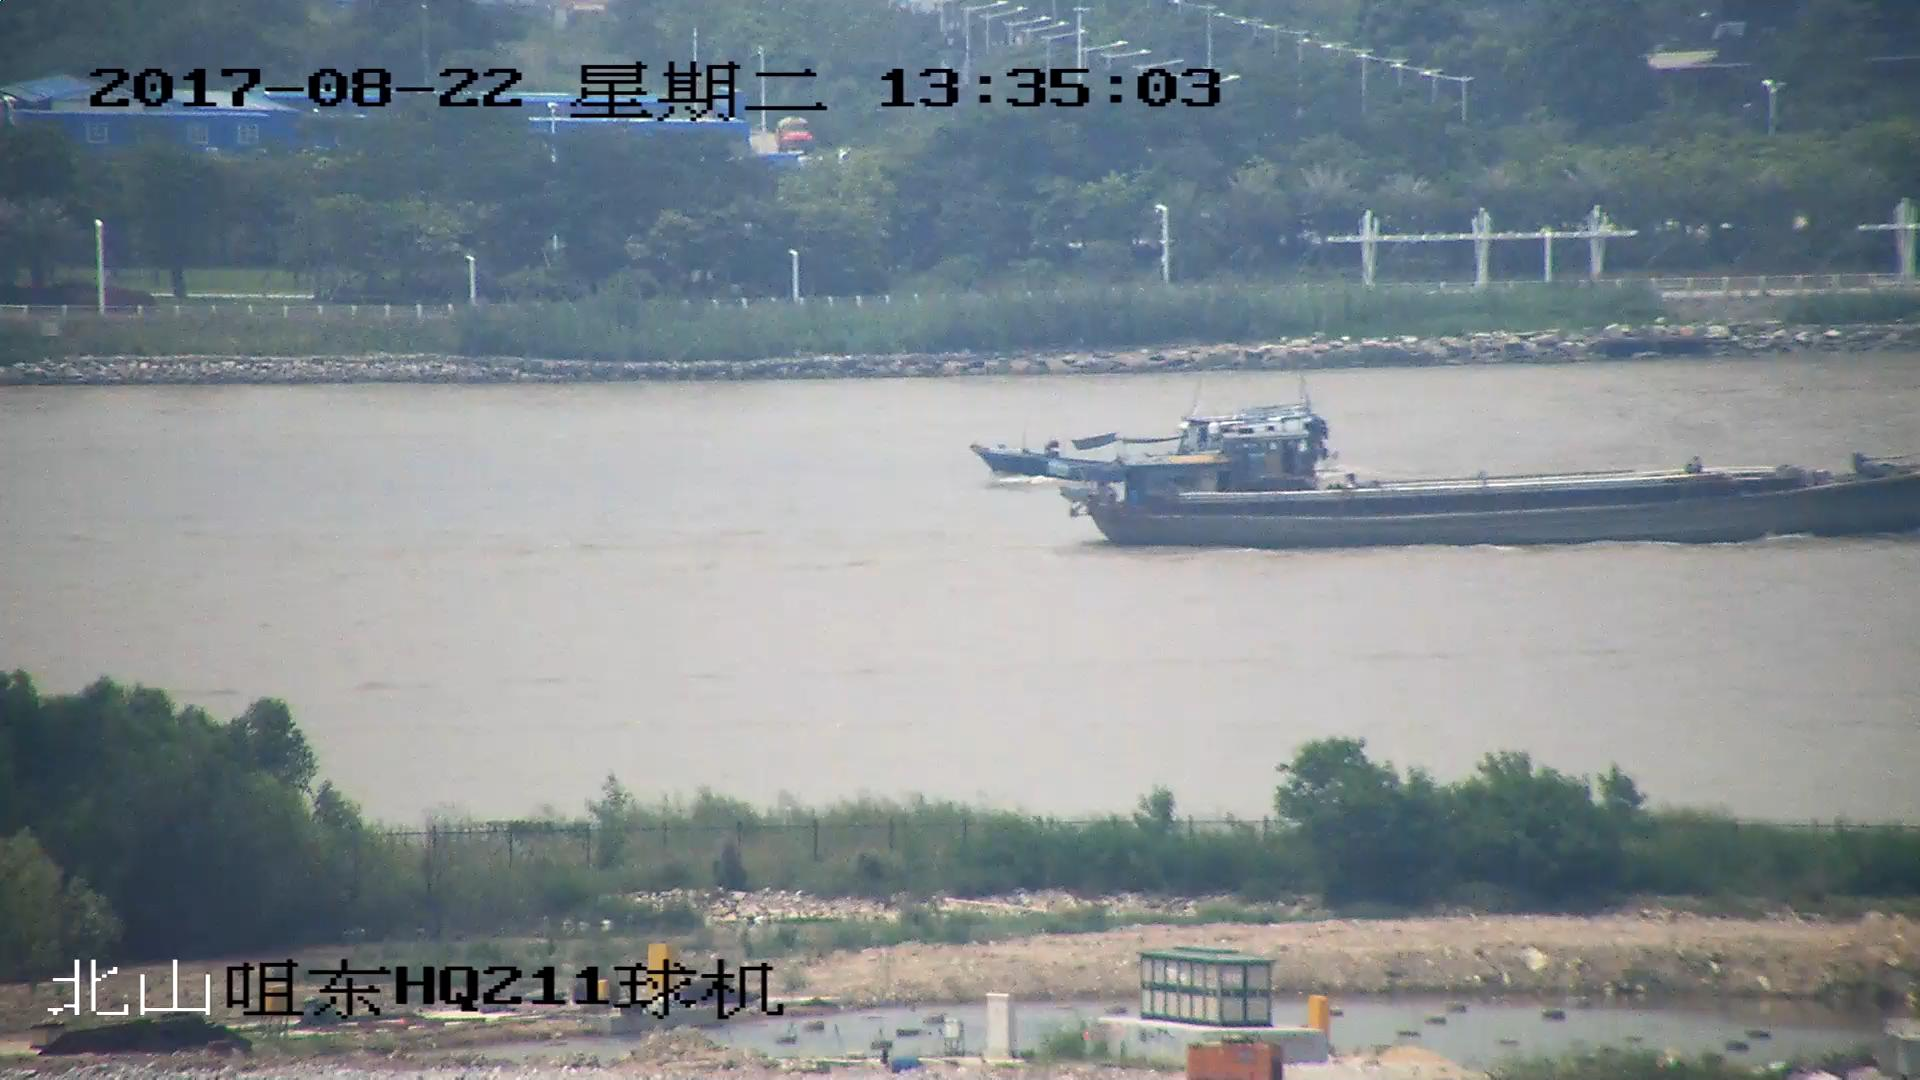bulk cargo carrier: (1076, 439, 1920, 549)
fishing boat: (968, 393, 1336, 484)
